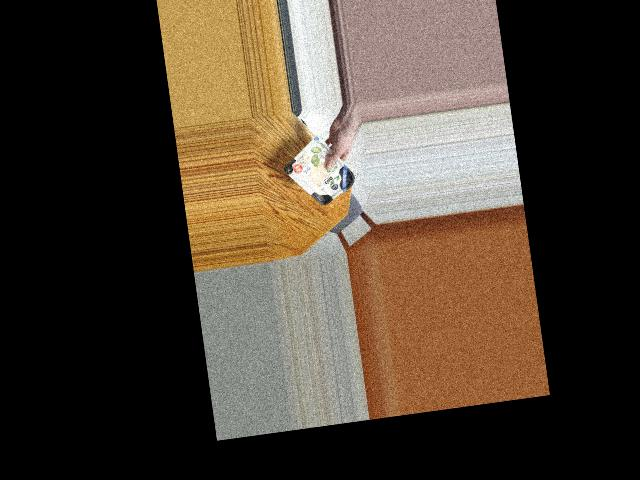cheese: (287, 142, 359, 209)
